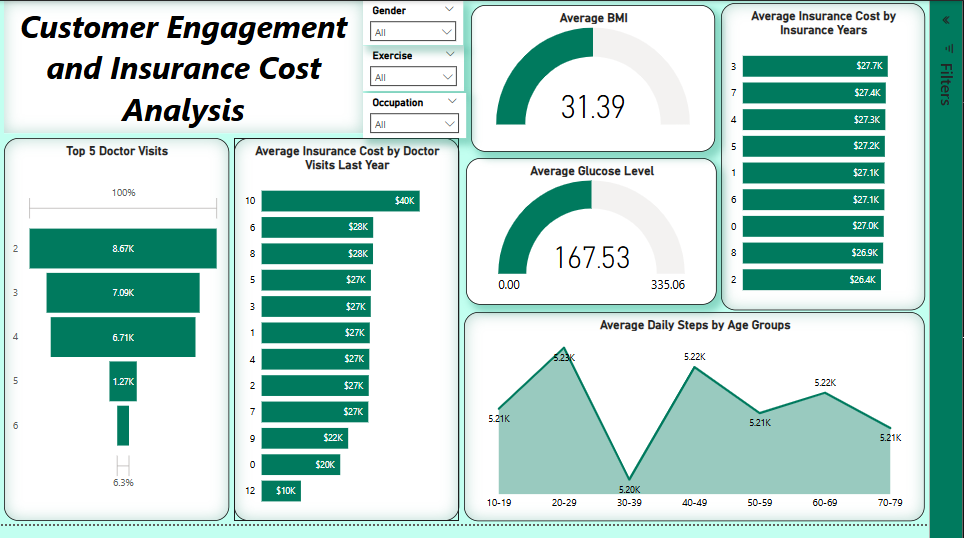

The page's visual inventory and layout, read from the dashboard file:
{"tool":"powerbi","page":{"name":"CEICA","canvas":[1280,720],"ordinal":3},"visuals":[{"type":"clusteredBarChart","title":"Average Insurance Cost by Insurance Years","fields":{"Y":["Avg(Data.insurance_cost)"],"Category":["Data.years_of_insurance_with_us"]},"box":[993.7,2.8,280.8,422.5],"z":0},{"type":"clusteredBarChart","title":"Average Insurance Cost by Doctor Visits Last Year","fields":{"Y":["Avg(Data.insurance_cost)"],"Category":["Data.visited_doctor_last_1_year"]},"box":[323.4,188.6,309.7,527.1],"z":1000},{"type":"areaChart","title":"Average Daily Steps by Age Groups","fields":{"Category":["Data.Age Groups"],"Y":["Avg(Data.daily_avg_steps)"]},"box":[640,428,634.5,287.7],"z":2000},{"type":"funnel","title":"Top 5 Doctor Visits","fields":{"Y":["CountNonNull(Data.Gender)"],"Category":["Data.visited_doctor_last_1_year"]},"box":[6.9,188.6,309.7,527.1],"z":3000},{"type":"gauge","title":"Average Glucose Level","fields":{"Y":["Avg(Data.avg_glucose_level)"]},"box":[642.8,216.1,345.5,202.3],"z":4000},{"type":"gauge","title":"Average BMI","fields":{"Y":["Avg(Data.bmi)"]},"box":[649.6,5.5,335.8,202.3],"z":5000},{"type":"slicer","fields":{"Values":["Data.exercise"]},"box":[501,61.9,139,61.9],"z":6000},{"type":"slicer","fields":{"Values":["Data.Gender"]},"box":[501,0,137.6,60.6],"z":7000},{"type":"slicer","fields":{"Values":["Data.Occupation"]},"box":[501,126.6,141.8,61.9],"z":8000},{"type":"textbox","box":[6.9,0,494.1,181.7],"z":9000}]}

Visuals, with their boxes in screenshot pixels (x1, y1, x2, y2), scaled from the page's 1280x720 canvas onto the 964x538 screenshot:
"Average Insurance Cost by Insurance Years" clusteredBarChart: l=748, t=2, r=960, b=318
"Average Insurance Cost by Doctor Visits Last Year" clusteredBarChart: l=244, t=141, r=477, b=535
"Average Daily Steps by Age Groups" areaChart: l=482, t=320, r=960, b=535
"Top 5 Doctor Visits" funnel: l=5, t=141, r=238, b=535
"Average Glucose Level" gauge: l=484, t=161, r=744, b=313
"Average BMI" gauge: l=489, t=4, r=742, b=155
slicer - Data.exercise: l=377, t=46, r=482, b=93
slicer - Data.Gender: l=377, t=0, r=481, b=45
slicer - Data.Occupation: l=377, t=95, r=484, b=141
textbox: l=5, t=0, r=377, b=136
